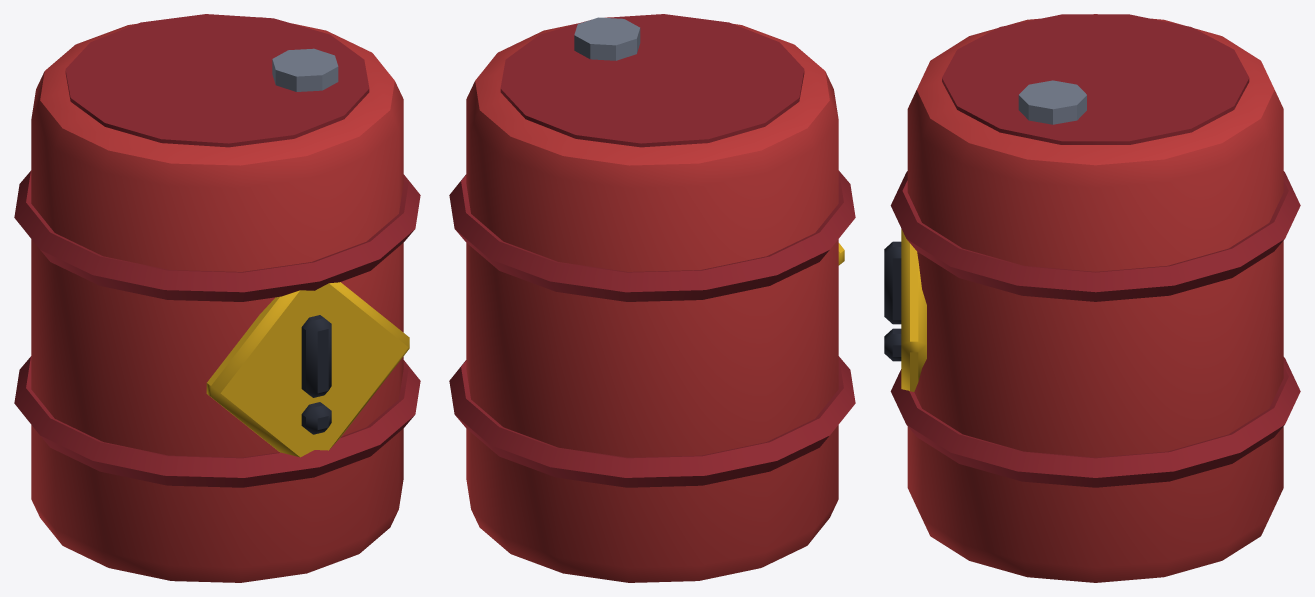
The model's file is p_barrel_1.glb.
3 renders of one model, left to right at view 1: azimuth 30°, elevation 25°; view 2: azimuth 150°, elevation 25°; view 3: azimuth 270°, elevation 25°, orthographic.
Parts seen in each view (by area): view 1: body; view 2: body; view 3: body.
Boxes of the visible parts, box(x1,y1,x2,y2) form: body: box(14, 14, 420, 582); body: box(449, 14, 855, 582); body: box(884, 14, 1300, 582).
Size of the model in its own units: 0.96 by 1.17 by 0.975.
